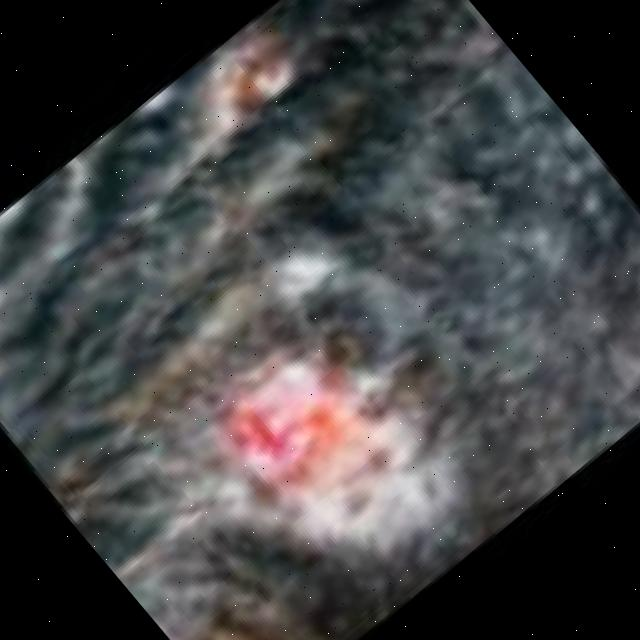cat-ringworm: (215, 350, 385, 518), (212, 22, 314, 122)
